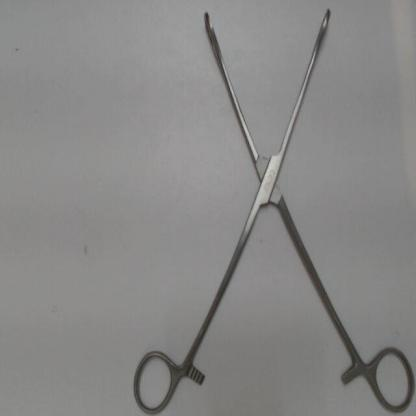Sponge Forceps: (130, 4, 415, 412)
